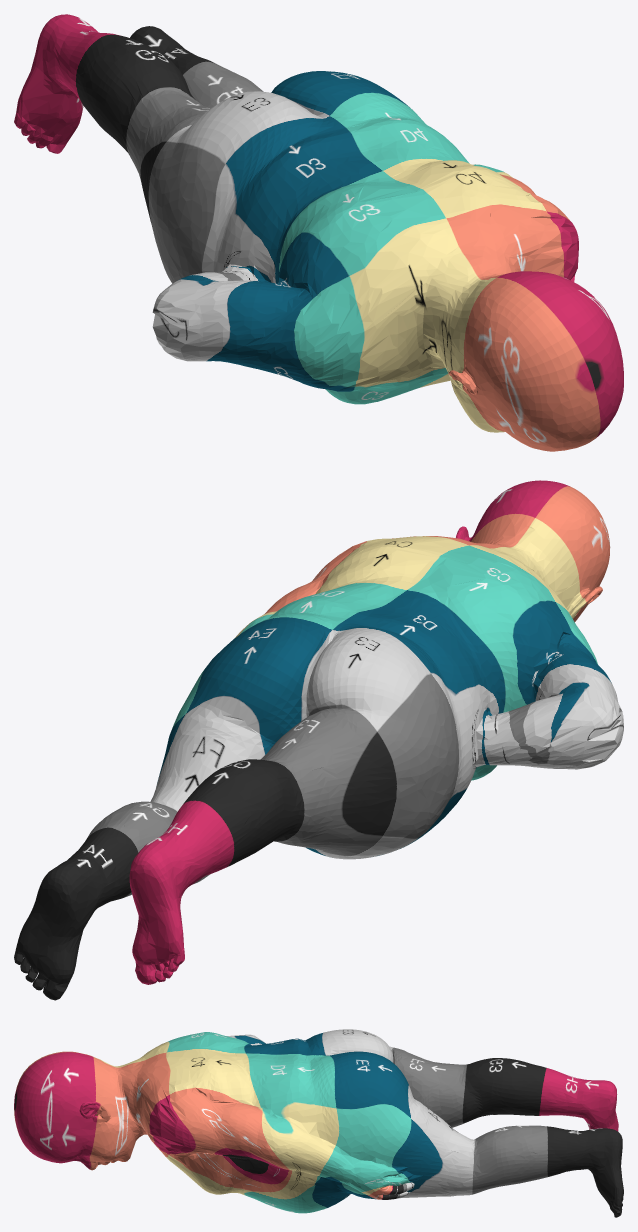
File: kid00-kid02.obj
3 views of the same model, one above another, from view 1: azimuth 30°, elevation 25°; view 2: azimuth 150°, elevation 25°; view 3: azimuth 270°, elevation 25° (orthographic). The views are drawn at different scales.
Parts seen in each view (by area): view 1: kid00-kid02_export; view 2: kid00-kid02_export; view 3: kid00-kid02_export.
Boxes of the visible parts, bbox=[...] form: kid00-kid02_export: bbox=[14, 14, 623, 451]; kid00-kid02_export: bbox=[14, 480, 623, 1000]; kid00-kid02_export: bbox=[14, 1029, 623, 1217].
Size of the model in its own units: 0.4861 by 0.3154 by 1.09.
Materials: 1 (1 with a texture image).
